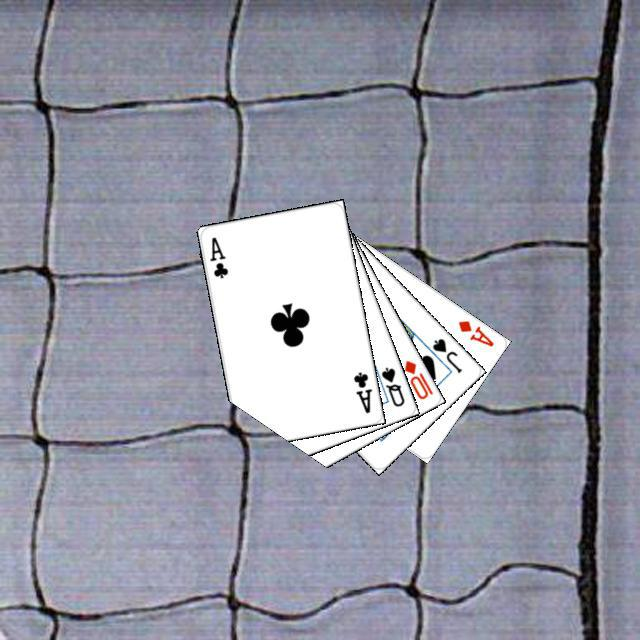10d: (399, 355, 435, 401)
Ac: (348, 367, 374, 415), (205, 232, 230, 280)
Ad: (453, 315, 496, 349)
Js: (427, 333, 464, 375)
Qs: (376, 362, 406, 408)
